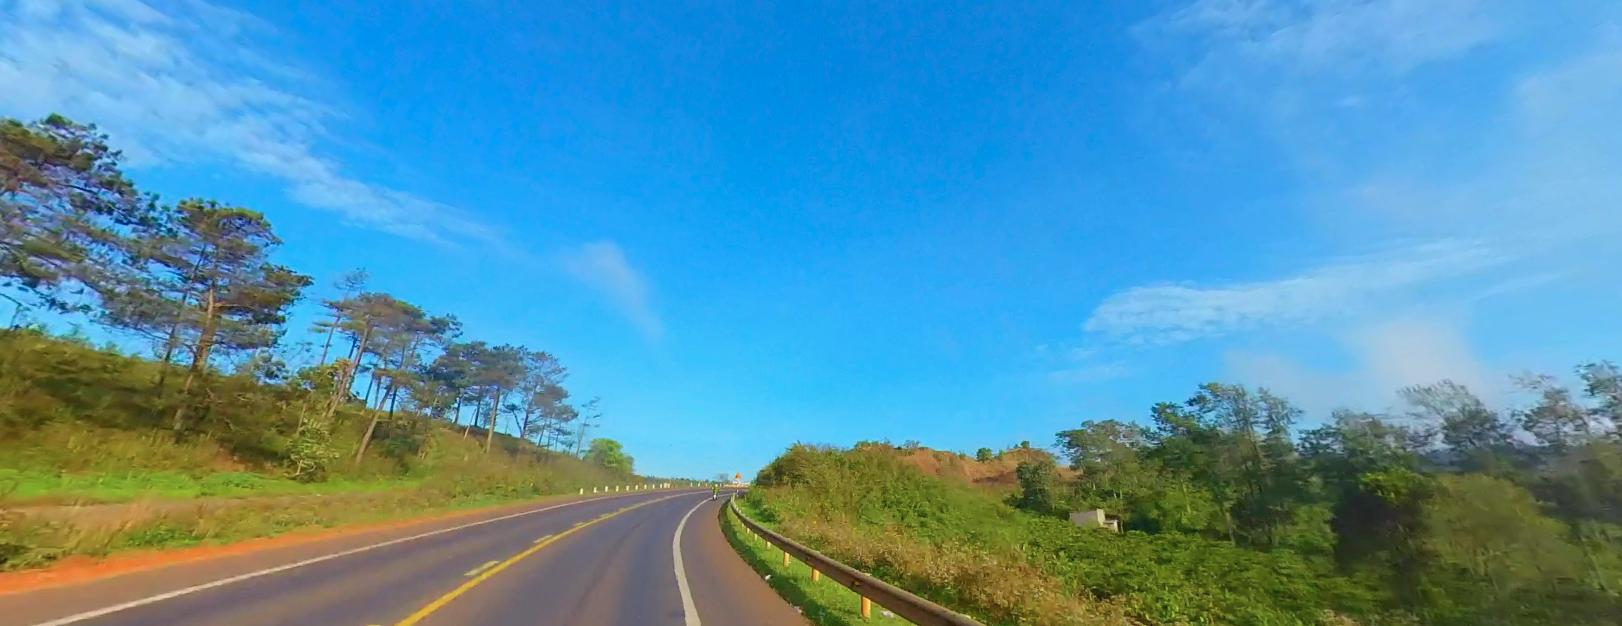Nguy hiem: (734, 471, 740, 477)
